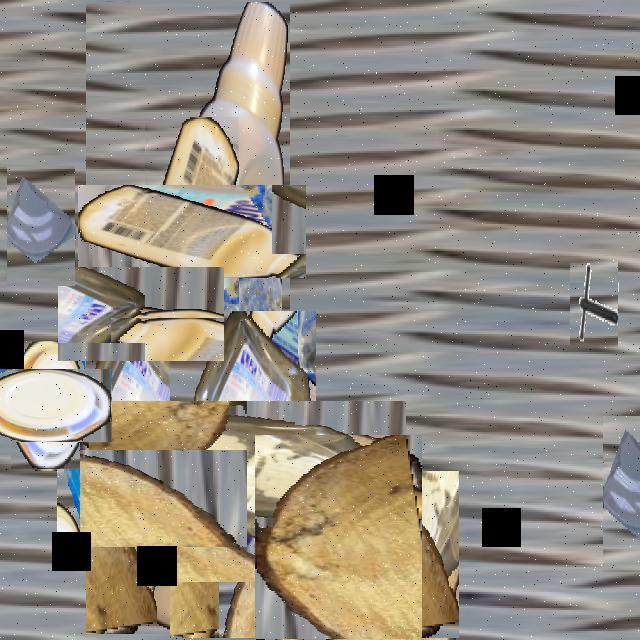glass: (76, 249, 206, 380), (57, 412, 141, 562), (7, 166, 75, 286), (603, 416, 640, 572)
metal: (209, 267, 271, 377), (570, 261, 618, 347)
plastic: (86, 2, 290, 634), (125, 356, 361, 593), (111, 151, 272, 311), (0, 355, 98, 456)
wood: (237, 452, 440, 640), (183, 478, 315, 610)
